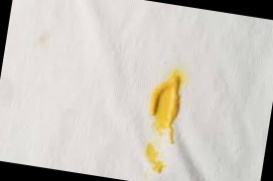mustard: (142, 68, 189, 143), (137, 143, 171, 177)
